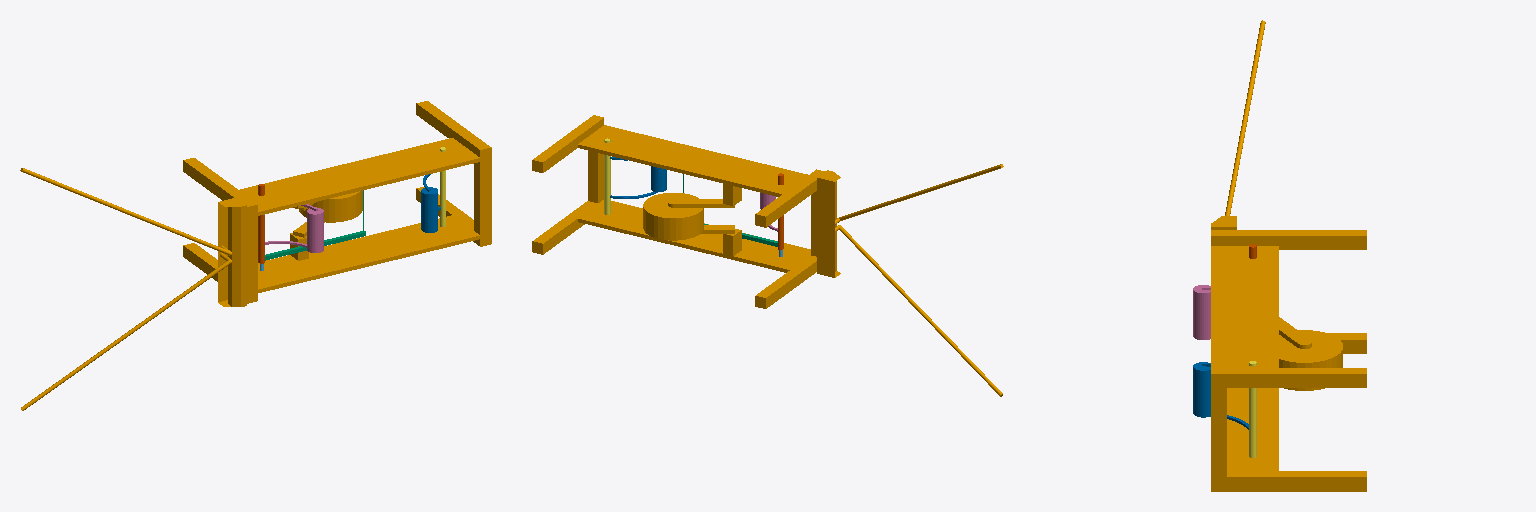
robot.urdf — fixed_caser_v1:
<?xml version="1.0"?>
<robot name="fixed_caser_v1">
 
    <link name="base_link">
        <visual>   <geometry> <mesh filename="base_1.dae"/> </geometry> </visual>
        <collision><geometry> <mesh filename="base_1.dae"/> </geometry> </collision>

        <visual>   <geometry> <mesh filename="base_2.dae"/> </geometry> </visual>
        <collision><geometry> <mesh filename="base_2.dae"/> </geometry> </collision>

        <visual>   <geometry> <mesh filename="base_3.dae"/> </geometry> </visual>
        <collision><geometry> <mesh filename="base_3.dae"/> </geometry> </collision>

        <visual>   <geometry> <mesh filename="base_4.dae"/> </geometry> </visual>
        <collision><geometry> <mesh filename="base_4.dae"/> </geometry> </collision>
        
        <visual>   <geometry> <mesh filename="base_5.dae"/> </geometry> </visual>
        <collision><geometry> <mesh filename="base_5.dae"/> </geometry> </collision>

        <visual>   <geometry> <mesh filename="fold_left_1.dae"/> </geometry> </visual>
        <collision><geometry> <mesh filename="fold_left_1.dae"/> </geometry> </collision>

        <visual>   <geometry> <mesh filename="fold_left_2.dae"/> </geometry> </visual>
        <collision><geometry> <mesh filename="fold_left_2.dae"/> </geometry> </collision>

        <visual>   <geometry> <mesh filename="fold_right_1.dae"/> </geometry> </visual>
        <collision><geometry> <mesh filename="fold_right_1.dae"/> </geometry> </collision>

        <visual>   <geometry> <mesh filename="fold_right_2.dae"/> </geometry> </visual>
        <collision><geometry> <mesh filename="fold_right_2.dae"/> </geometry> </collision>

        <visual>   <geometry> <mesh filename="tape_1.dae"/> </geometry> </visual>
        <collision><geometry> <mesh filename="tape_1.dae"/> </geometry> </collision>

        <visual>   <geometry> <mesh filename="tape_2.dae"/> </geometry> </visual>
        <collision><geometry> <mesh filename="tape_2.dae"/> </geometry> </collision>

        <visual>   <geometry> <mesh filename="tape_3.dae"/> </geometry> </visual>
        <collision><geometry> <mesh filename="tape_3.dae"/> </geometry> </collision>

        <visual>   <geometry> <mesh filename="tape_4.dae"/> </geometry> </visual>
        <collision><geometry> <mesh filename="tape_4.dae"/> </geometry> </collision>

        <visual>   <geometry> <mesh filename="tape_5.dae"/> </geometry> </visual>
        <collision><geometry> <mesh filename="tape_5.dae"/> </geometry> </collision>

        <inertial>
            <origin xyz="0 0 0" rpy="0 0 0"/>
            <mass value="1.0"/>
            <inertia ixx="0.1" ixy="0.0" ixz="0.0" iyy="0.1" iyz="0.0" izz="0.1"/>
        </inertial>
    </link>

    <link name="cutter_1_link">
        <visual>   <geometry> <mesh filename="cutter_1.dae"/> </geometry> </visual>
        <collision><geometry> <mesh filename="cutter_1.dae"/> </geometry> </collision>
        <inertial>
            <origin xyz="0 0 0" rpy="0 0 0"/><mass value="0.2"/>
            <inertia ixx="0.01" ixy="0.0" ixz="0.0" iyy="0.01" iyz="0.0" izz="0.01"/>
        </inertial>
    </link>

    <joint name="base_to_cutter_joint" type="revolute">
        <parent link="base_link"/>
        <child link="cutter_1_link"/>
        <origin xyz="-0.245 0 0.01" rpy="0 0 0"/> <axis xyz="0 1 0"/>               
        <limit lower="-1.57" upper="1.57" effort="10.0" velocity="1.0"/>
    </joint>

    <link name="cutter_children_link">
        <visual>   <geometry> <mesh filename="cutter_2.dae"/> </geometry> </visual>
        <collision><geometry> <mesh filename="cutter_2.dae"/> </geometry> </collision>
        <visual>   <geometry> <mesh filename="cutter_3.dae"/> </geometry> </visual>
        <collision><geometry> <mesh filename="cutter_3.dae"/> </geometry> </collision>
        <visual>   <geometry> <mesh filename="cutter_4.dae"/> </geometry> </visual>
        <collision><geometry> <mesh filename="cutter_4.dae"/> </geometry> </collision>
        <inertial>
            <origin xyz="0 0 0" rpy="0 0 0"/><mass value="0.3"/>
            <inertia ixx="0.01" ixy="0.0" ixz="0.0" iyy="0.01" iyz="0.0" izz="0.01"/>
        </inertial>
    </link>

    <joint name="cutter_1_to_children" type="fixed">
        <parent link="cutter_1_link"/>
        <child link="cutter_children_link"/>
        <origin xyz="0 0 0" rpy="0 0 0"/>
    </joint>


    <link name="taping_front_1_link">
        <visual>   <geometry> <mesh filename="taping_front_1.dae"/> </geometry> </visual>
        <collision><geometry> <mesh filename="taping_front_1.dae"/> </geometry> </collision>
        <inertial>
            <origin xyz="0 0 0" rpy="0 0 0"/><mass value="0.2"/>
            <inertia ixx="0.01" ixy="0.0" ixz="0.0" iyy="0.01" iyz="0.0" izz="0.01"/>
        </inertial>
    </link>

    <joint name="base_to_taping_front_joint" type="revolute">
        <parent link="base_link"/>
        <child link="taping_front_1_link"/>
        <origin xyz="0.245 0 0.01" rpy="0 0 0"/> <axis xyz="0 1 0"/>
        <limit lower="-1.57" upper="1.57" effort="10.0" velocity="1.0"/>
    </joint>

    <link name="taping_front_children_link">
        <visual>   <geometry> <mesh filename="taping_front_2.dae"/> </geometry> </visual>
        <collision><geometry> <mesh filename="taping_front_2.dae"/> </geometry> </collision>
        <visual>   <geometry> <mesh filename="taping_front_3.dae"/> </geometry> </visual>
        <collision><geometry> <mesh filename="taping_front_3.dae"/> </geometry> </collision>
        <visual>   <geometry> <mesh filename="taping_front_4.dae"/> </geometry> </visual>
        <collision><geometry> <mesh filename="taping_front_4.dae"/> </geometry> </collision>
        <inertial>
            <origin xyz="0 0 0" rpy="0 0 0"/><mass value="0.3"/>
            <inertia ixx="0.01" ixy="0.0" ixz="0.0" iyy="0.01" iyz="0.0" izz="0.01"/>
        </inertial>
    </link>

    <joint name="taping_front_1_to_children" type="fixed">
        <parent link="taping_front_1_link"/>
        <child link="taping_front_children_link"/>
        <origin xyz="0 0 0" rpy="0 0 0"/>
    </joint>


    <link name="taping_back_1_link">
        <visual>   <geometry> <mesh filename="taping_back_1.dae"/> </geometry> </visual>
        <collision><geometry> <mesh filename="taping_back_1.dae"/> </geometry> </collision>
        <inertial>
            <origin xyz="0 0 0" rpy="0 0 0"/><mass value="0.2"/>
            <inertia ixx="0.01" ixy="0.0" ixz="0.0" iyy="0.01" iyz="0.0" izz="0.01"/>
        </inertial>
    </link>

    <joint name="base_to_taping_back_joint" type="revolute">
        <parent link="base_link"/>
        <child link="taping_back_1_link"/>
        <origin xyz="-0.245 0 0.03" rpy="0 0 0"/> <axis xyz="0 1 0"/>
        <limit lower="-1.57" upper="1.57" effort="10.0" velocity="1.0"/>
    </joint>

    <link name="taping_back_children_link">
        <visual>   <geometry> <mesh filename="taping_back_2.dae"/> </geometry> </visual>
        <collision><geometry> <mesh filename="taping_back_2.dae"/> </geometry> </collision>
        <visual>   <geometry> <mesh filename="taping_back_3.dae"/> </geometry> </visual>
        <collision><geometry> <mesh filename="taping_back_3.dae"/> </geometry> </collision>
        <visual>   <geometry> <mesh filename="taping_back_4.dae"/> </geometry> </visual>
        <collision><geometry> <mesh filename="taping_back_4.dae"/> </geometry> </collision>
        <inertial>
            <origin xyz="0 0 0" rpy="0 0 0"/><mass value="0.3"/>
            <inertia ixx="0.01" ixy="0.0" ixz="0.0" iyy="0.01" iyz="0.0" izz="0.01"/>
        </inertial>
    </link>

    <joint name="taping_back_1_to_children" type="fixed">
        <parent link="taping_back_1_link"/>
        <child link="taping_back_children_link"/>
        <origin xyz="0 0 0" rpy="0 0 0"/>
    </joint>

</robot>

--- Facts derived from the render (not from the file) ---
3 views of the same robot in one strip: view 1: azimuth 30°, elevation 25°; view 2: azimuth 150°, elevation 25°; view 3: azimuth 270°, elevation 25° (orthographic).
Model fixed_caser_v1 with 7 links and 6 joints (3 revolute, 3 fixed), rooted at base_link, posed every joint at zero.
Visible links, largest first — view 1: base_link, taping_back_children_link, taping_front_children_link, cutter_children_link; view 2: base_link, taping_front_children_link; view 3: base_link, taping_front_children_link, taping_back_children_link, taping_front_1_link.
Link boxes in pixels (<box>): base_link: <box>20,101,491,410</box>; taping_back_children_link: <box>265,204,323,252</box>; taping_front_children_link: <box>421,174,440,232</box>; cutter_children_link: <box>265,190,365,260</box>; base_link: <box>532,115,1003,396</box>; taping_front_children_link: <box>610,157,666,198</box>; base_link: <box>1211,20,1366,491</box>; taping_front_children_link: <box>1193,362,1248,429</box>; taping_back_children_link: <box>1193,285,1210,339</box>; taping_front_1_link: <box>1249,361,1256,457</box>.
Size in the robot's own frame: 1.21 by 0.335 by 0.6287 metres.
Meshes: 26 distinct files referenced, 26 mesh visuals loaded (26 Collada DAE).
